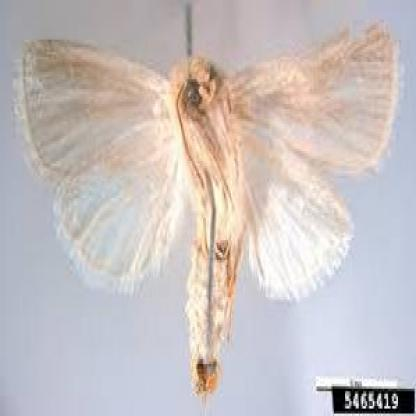stem-borer: (20, 26, 400, 371)
